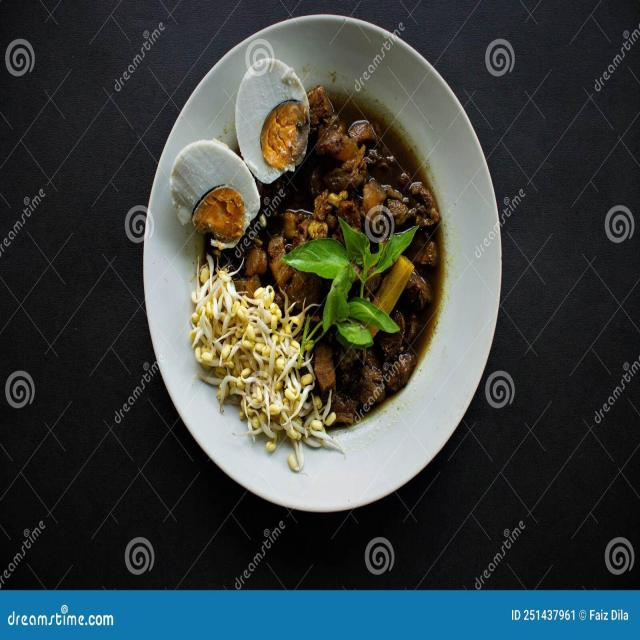Rawon: (187, 114, 436, 394)
